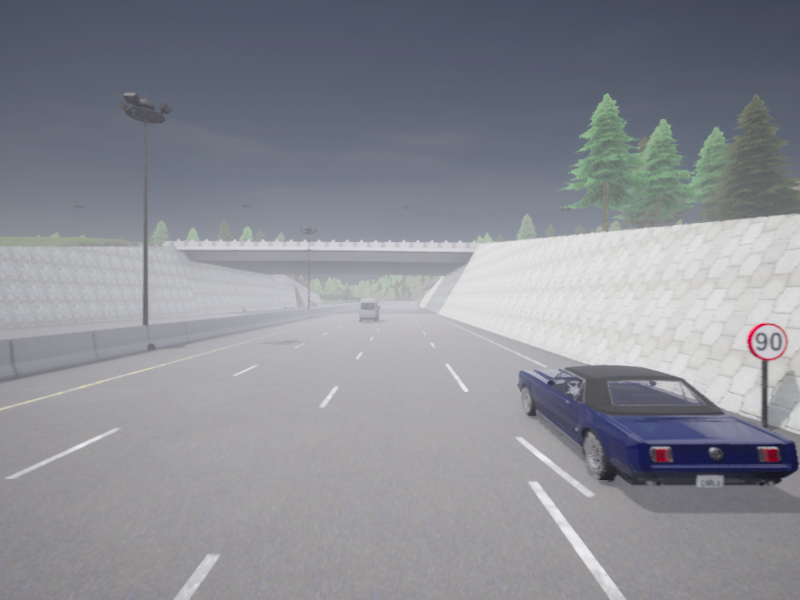vehicle: (517, 365, 798, 486), (359, 299, 380, 320)
